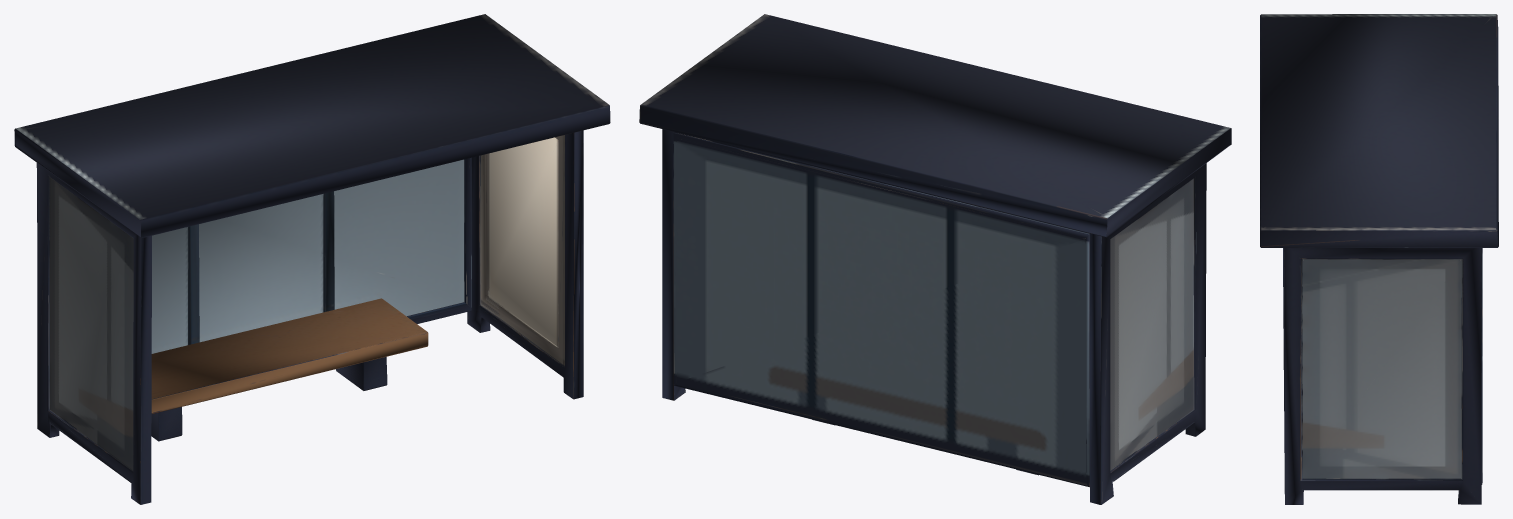
File: bus_shelter.fbx
3 renders of one model, left to right at view 1: azimuth 30°, elevation 25°; view 2: azimuth 150°, elevation 25°; view 3: azimuth 270°, elevation 25°, orthographic. The views are drawn at different scales.
Visible parts, largest first — view 1: Mesh_0; view 2: Mesh_0; view 3: Mesh_0.
Boxes of the visible parts, box(x1,y1,x2,y2) form: Mesh_0: box(14, 14, 610, 504); Mesh_0: box(639, 14, 1231, 504); Mesh_0: box(1260, 14, 1498, 504).
Size of the model in its own units: 95.07 by 57.62 by 44.24.
1 material, 1 textured.
